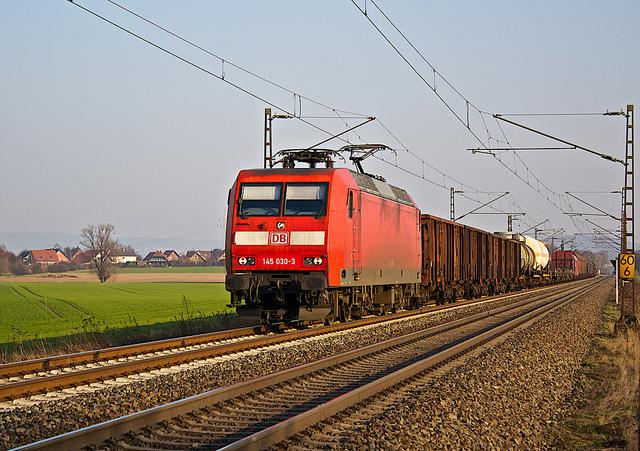Train: (225, 144, 601, 328)
